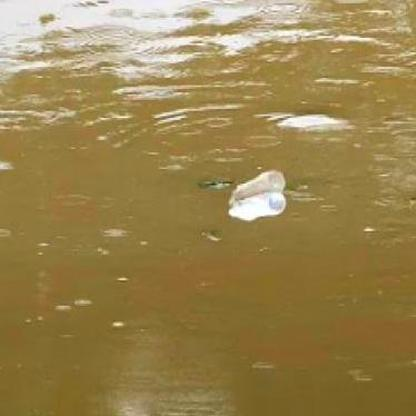plastic bottle: (229, 193, 285, 221)
